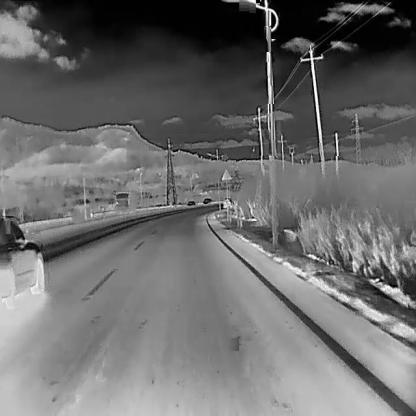car: (0, 214, 44, 308), (220, 198, 233, 208)
